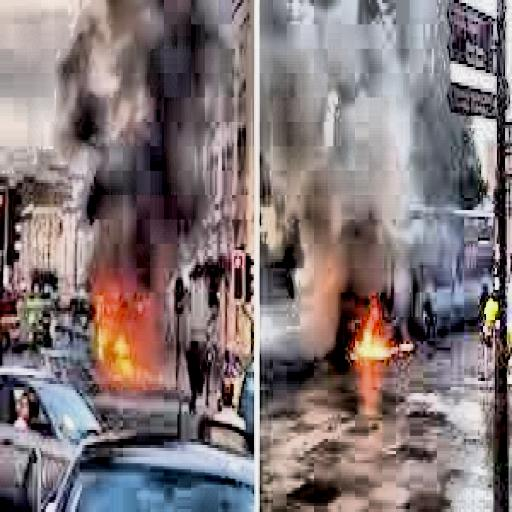fire: (80, 271, 167, 390), (340, 286, 416, 372)
